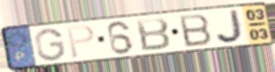6: (107, 19, 135, 56)
B: (134, 16, 173, 52), (177, 12, 214, 48)
G: (34, 27, 67, 62)
J: (214, 8, 247, 45)
P: (65, 24, 97, 60)
